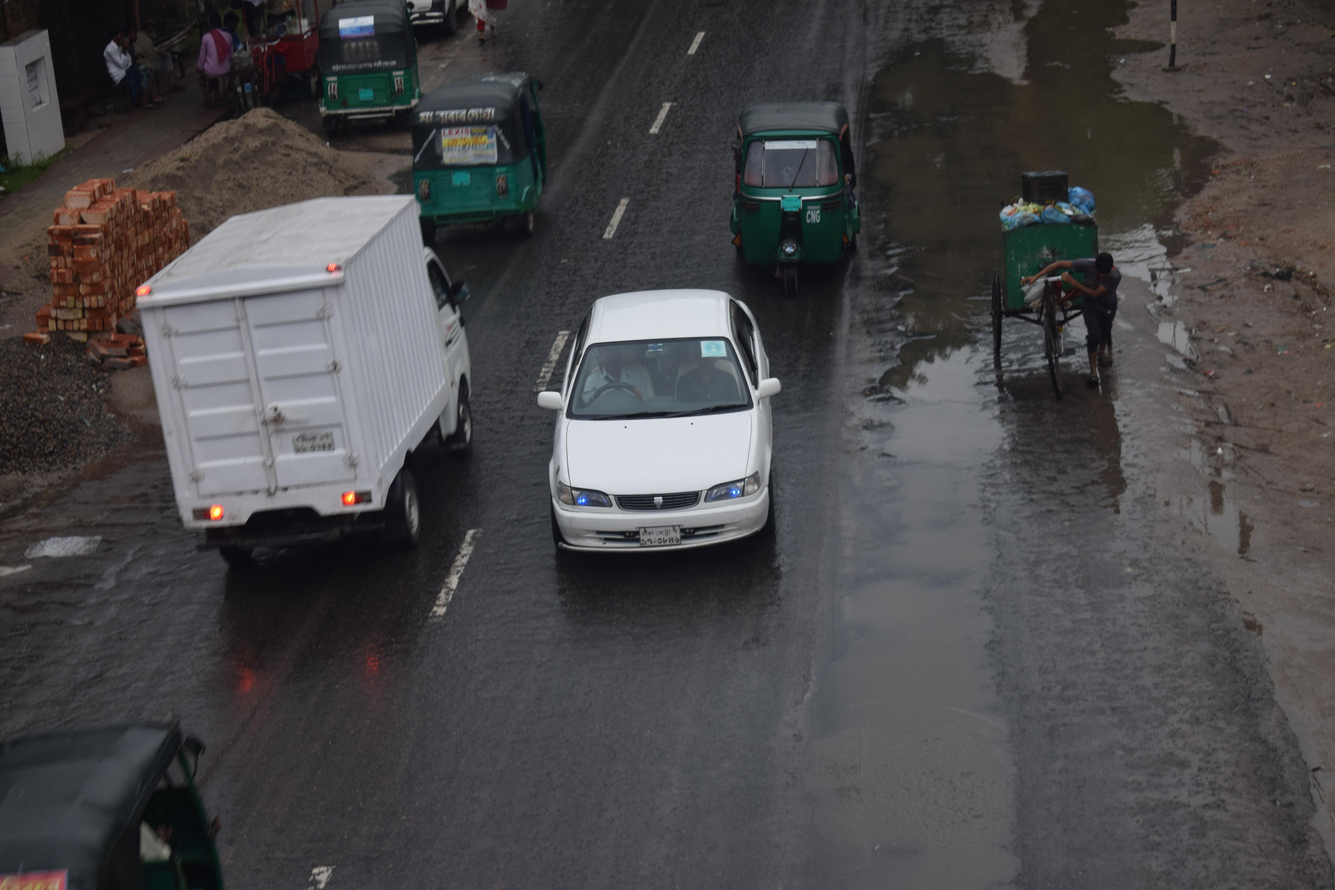Car: (505, 261, 840, 595)
Truck: (78, 166, 512, 578)
